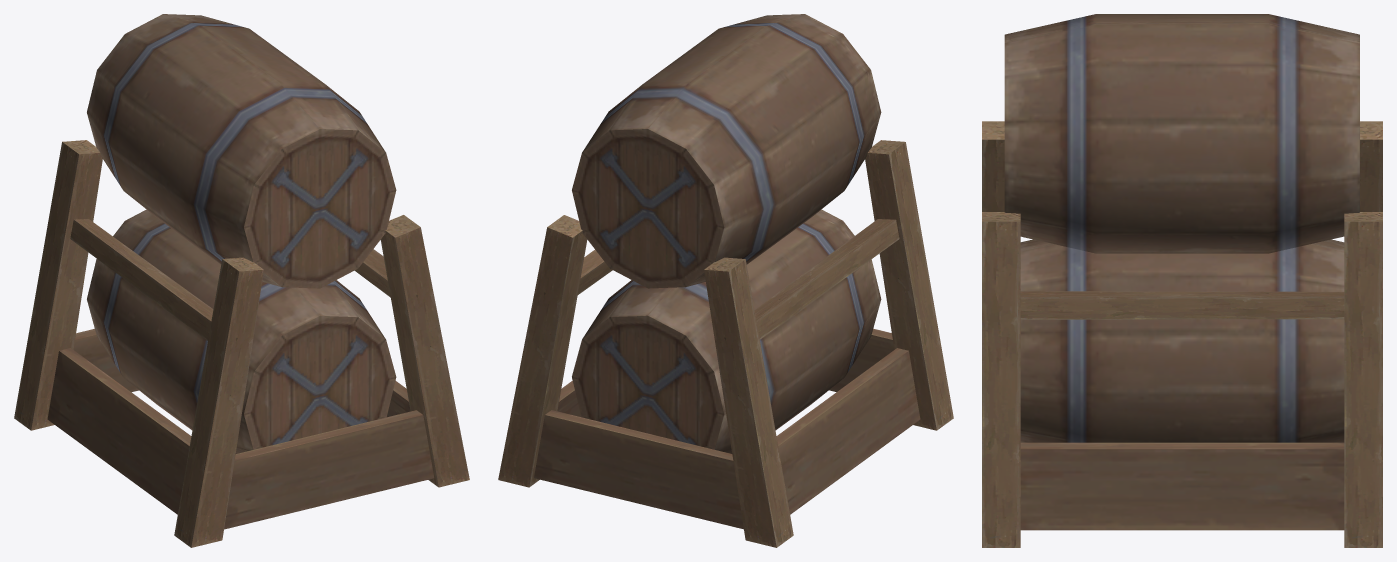
File: Homeworld_Exterior_Xm_Decoration_Prop_Dpmutong_01_Lod0.fbx
The picture shows the model from 3 angles, left to right: view 1: azimuth 30°, elevation 25°; view 2: azimuth 150°, elevation 25°; view 3: azimuth 270°, elevation 25°; orthographic projection. The views are drawn at different scales.
Parts seen in each view (by area): view 1: Area_Xm_Prop_XKC_Dpmutong_01_Lod0; view 2: Area_Xm_Prop_XKC_Dpmutong_01_Lod0; view 3: Area_Xm_Prop_XKC_Dpmutong_01_Lod0.
Boxes of the visible parts, bbox=[...] form: Area_Xm_Prop_XKC_Dpmutong_01_Lod0: bbox=[14, 14, 469, 547]; Area_Xm_Prop_XKC_Dpmutong_01_Lod0: bbox=[498, 14, 953, 547]; Area_Xm_Prop_XKC_Dpmutong_01_Lod0: bbox=[982, 14, 1382, 547].
Size of the model in its own units: 0.8522 by 1.15 by 0.9386.
